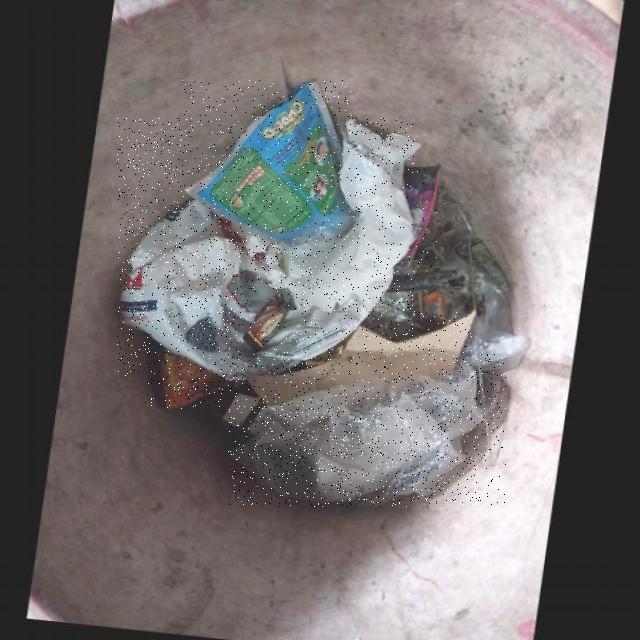paper: (243, 312, 472, 406)
plastic: (117, 118, 415, 375), (228, 354, 506, 507)
wrapper: (182, 80, 356, 245), (145, 337, 232, 409), (391, 165, 437, 267), (241, 293, 293, 353)
